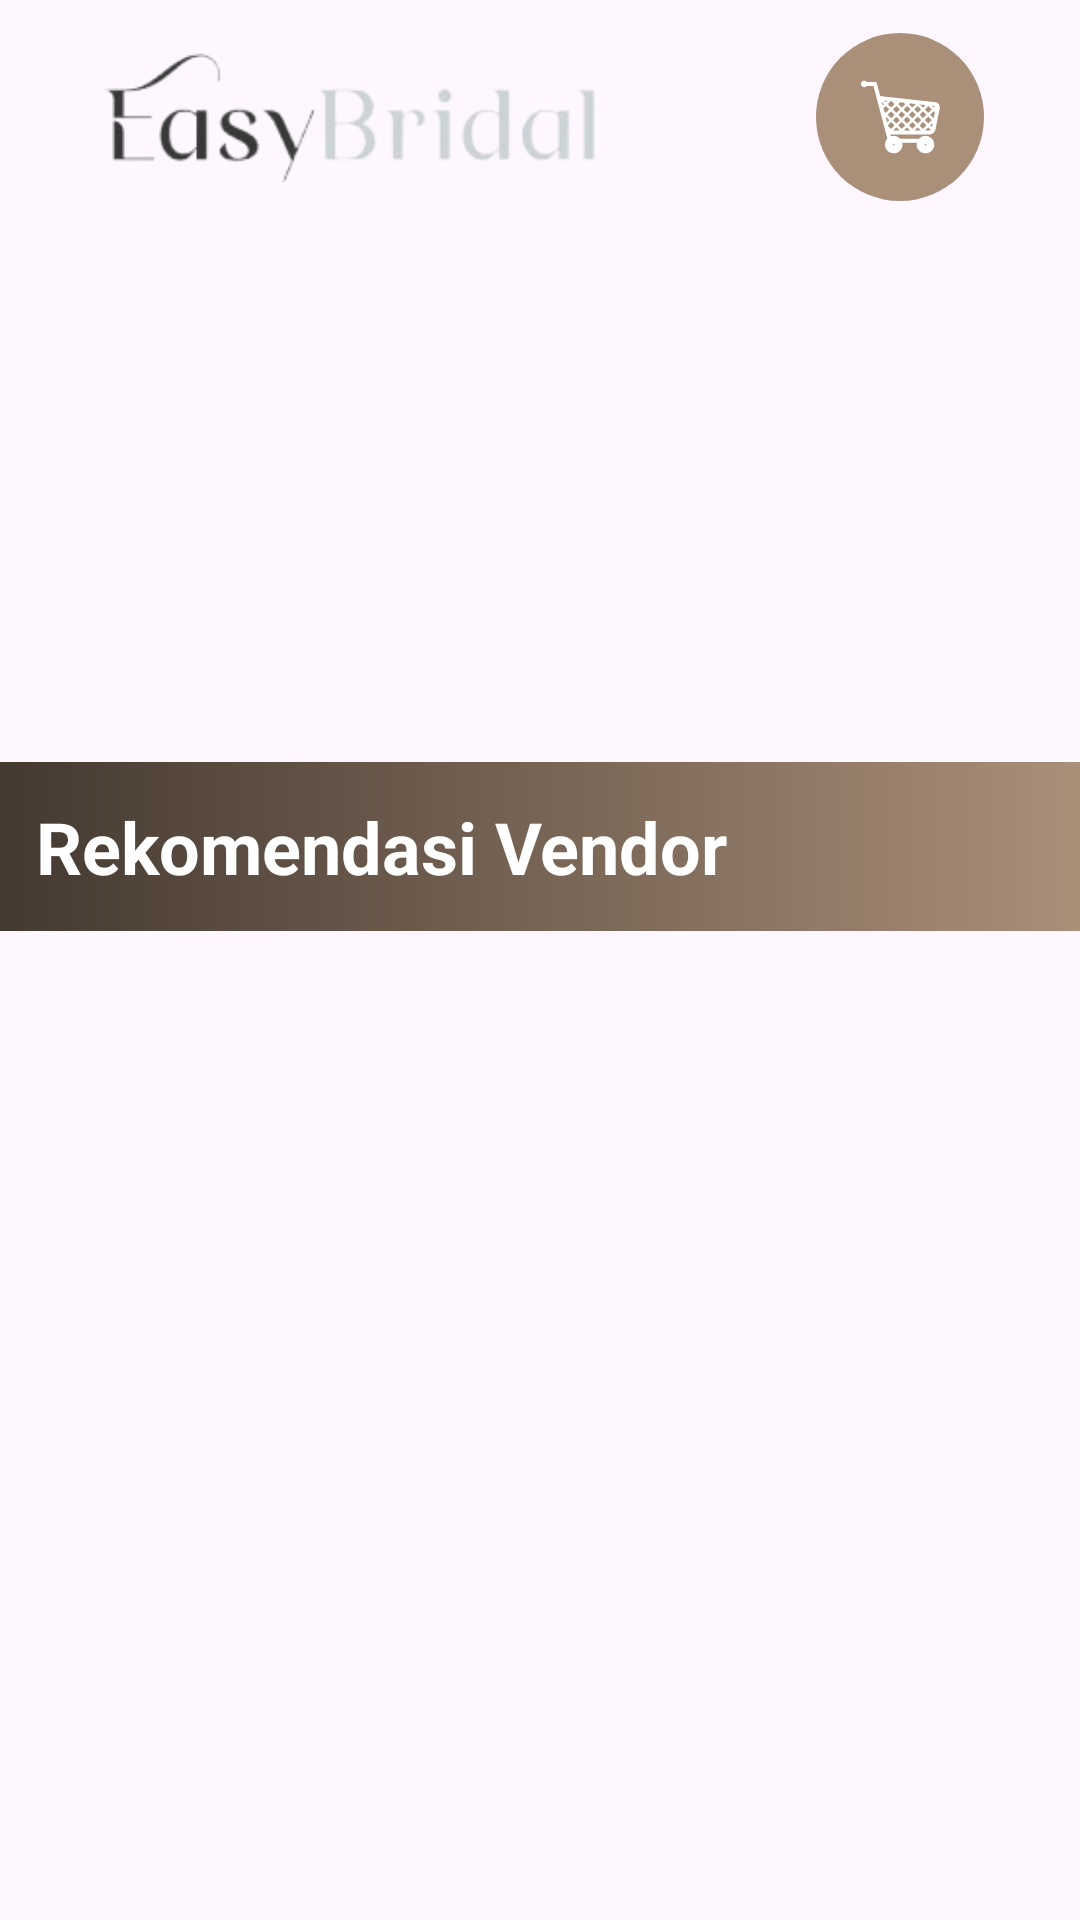

Point at icon controls on the screen. Image size 1080x1920, points as point (x, y).
keranjang: point (900, 117)
